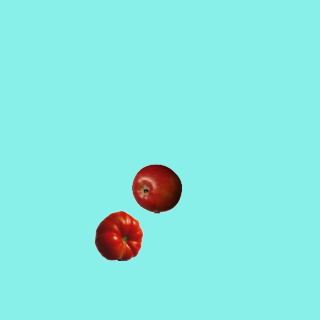Apple Braeburn: (131, 163, 181, 213)
Tomato 3: (93, 210, 143, 260)
